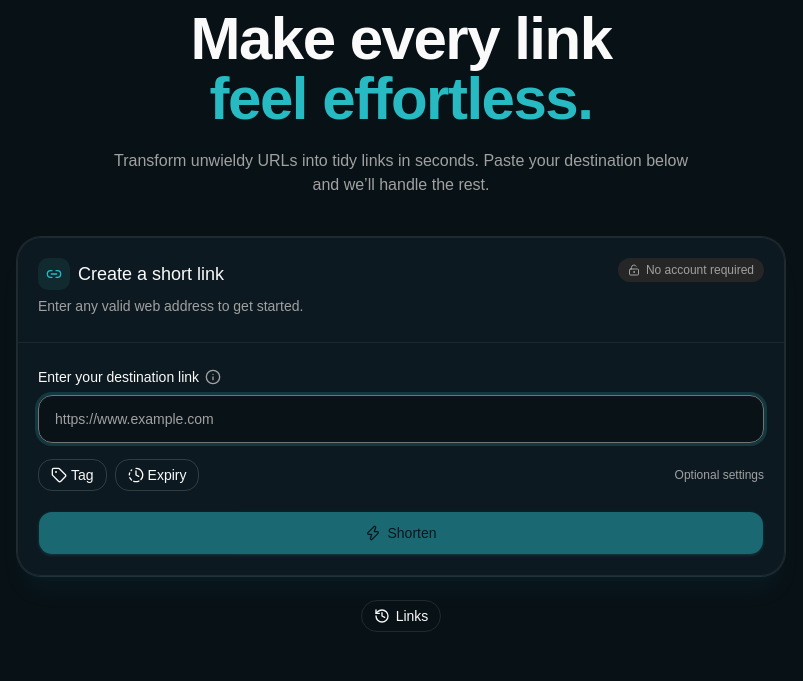
Test case: HomePage validation feedback › clears the error once the value changes
Type "https://example.com/a b" into the field with placeholder "https://www.example.com". click: (401, 419)
box: [38,395,764,443]
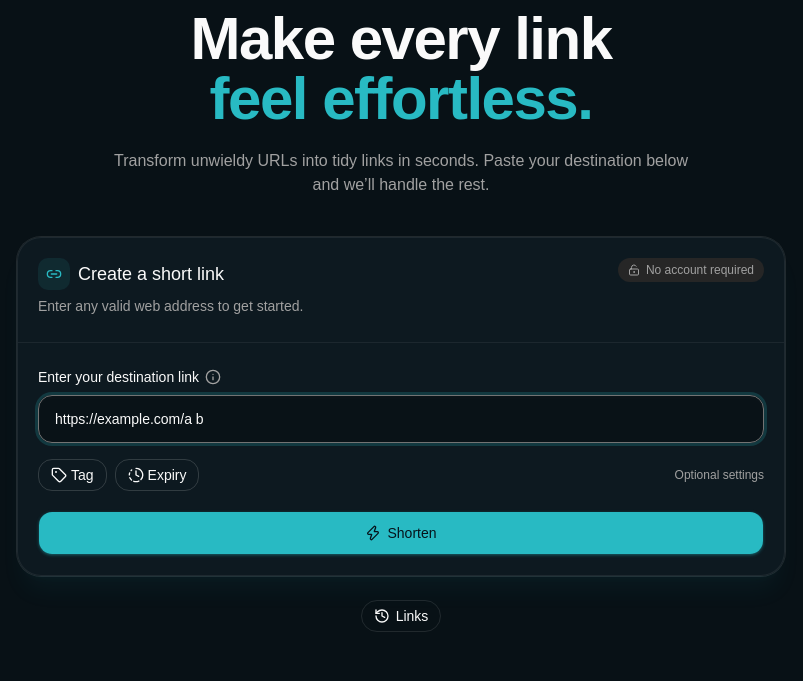
Click the button "Shorten". click: click(401, 533)
box: [38,511,764,555]
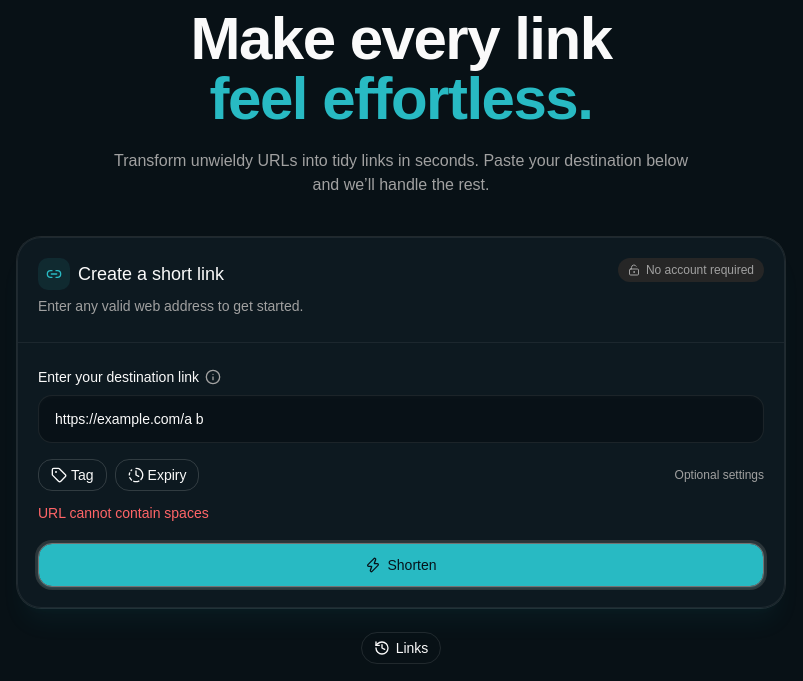
expect the text "URL cannot contain spaces" is shown: met, box [38,505,209,521]
Type "c" into the field with placeholder "https://www.example.com". click: (401, 419)
box: [38,395,764,443]
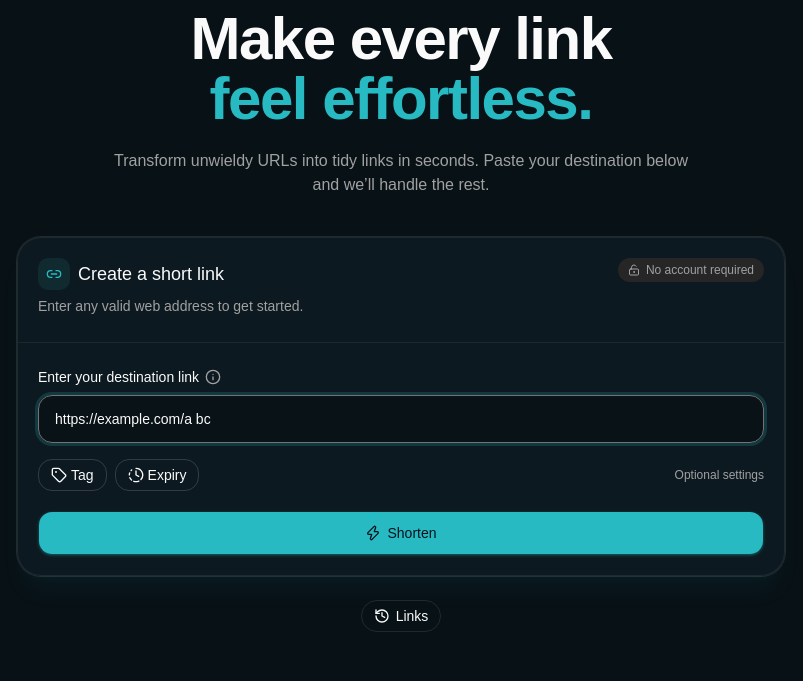
expect the text "URL cannot contain spaces" is gone: met
